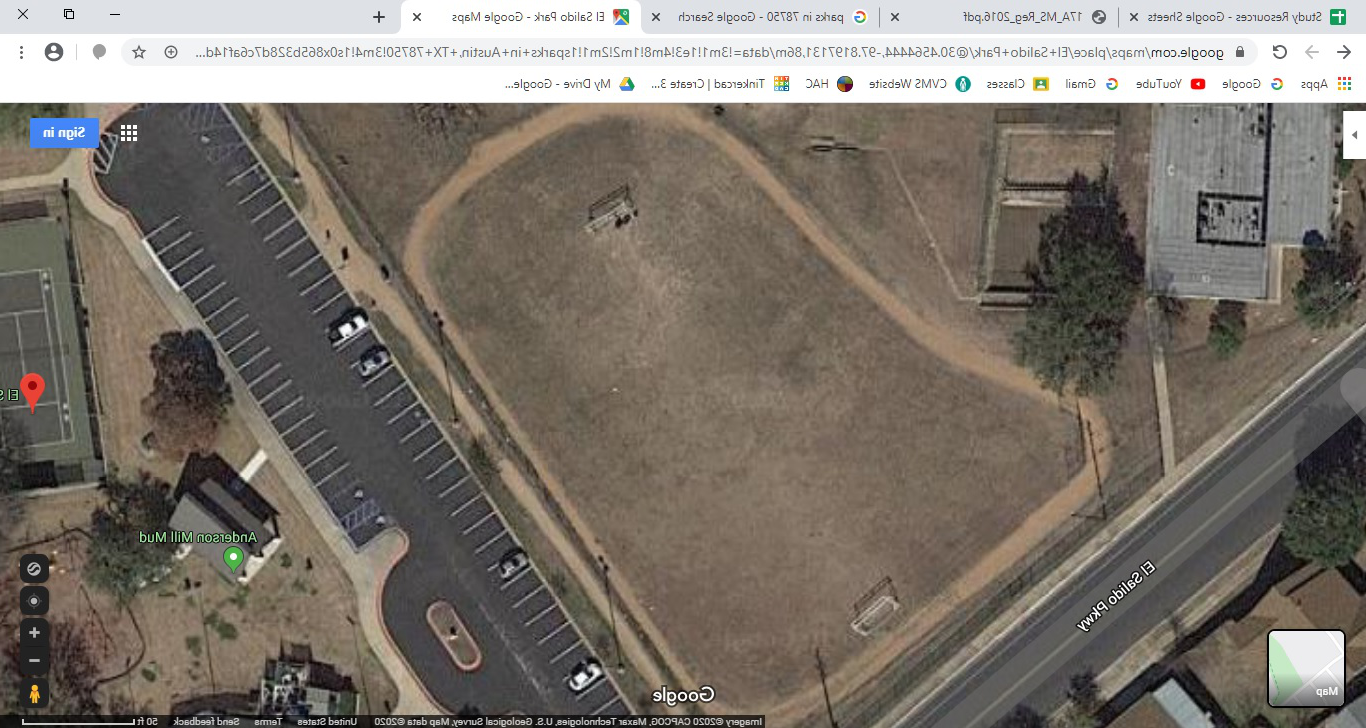soccer: (478, 184, 970, 628)
